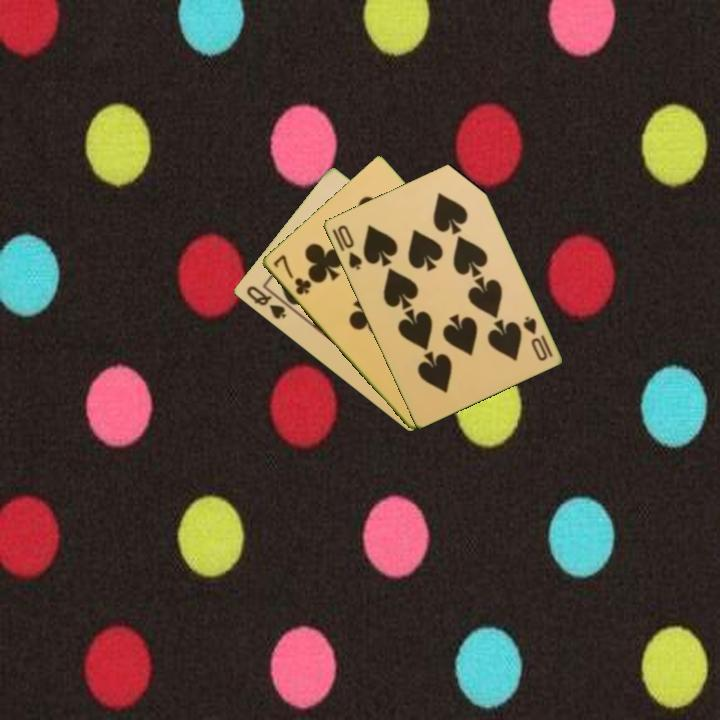10s: (519, 312, 555, 364), (334, 221, 365, 273)
7c: (270, 251, 314, 298)
Qs: (242, 282, 289, 322)
